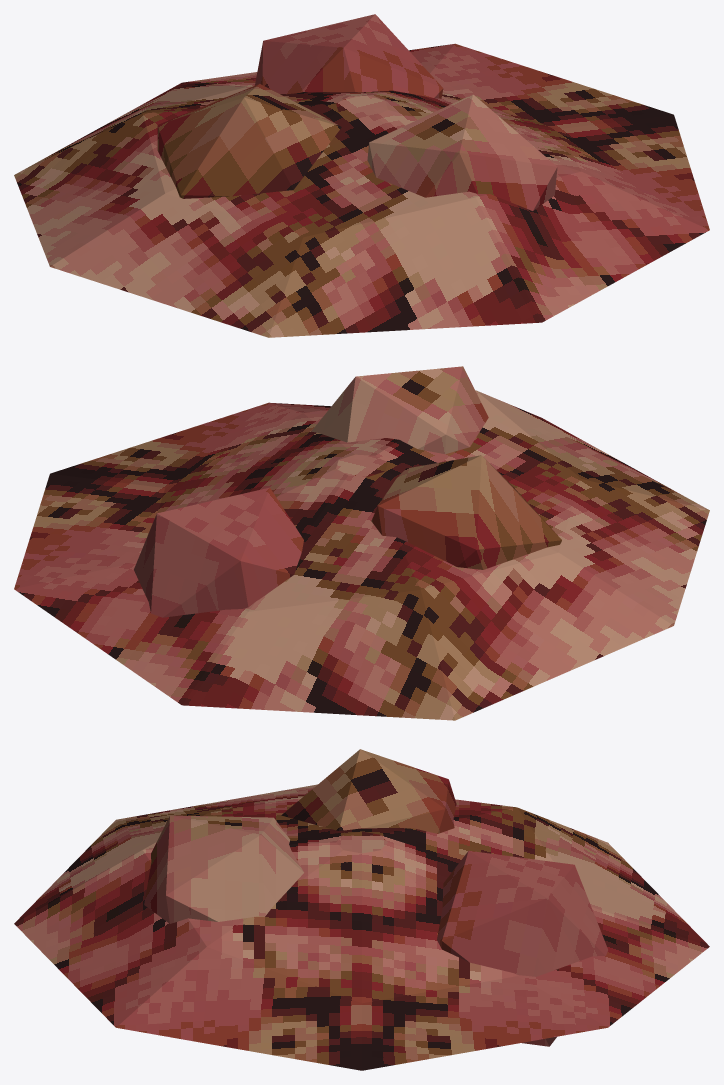
Rendered from apple_barrel_fillter.glb.
3 views of the same model, one above another, from view 1: azimuth 30°, elevation 25°; view 2: azimuth 150°, elevation 25°; view 3: azimuth 270°, elevation 25° (orthographic). The views are drawn at different scales.
Parts seen in each view (by area): view 1: apple_barrel_fillter; view 2: apple_barrel_fillter; view 3: apple_barrel_fillter.
Part boxes in pixels (x1,y1,x2,y2): apple_barrel_fillter: (14, 14, 709, 337); apple_barrel_fillter: (14, 366, 709, 720); apple_barrel_fillter: (14, 749, 709, 1070).
Size of the model in its own units: 0.8042 by 0.2614 by 0.8042.
1 material, 1 textured.
